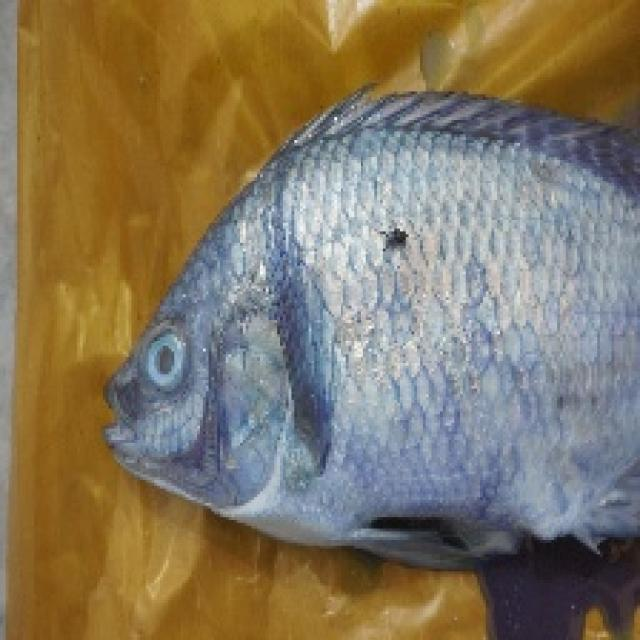Non-Fresh: (202, 176, 640, 542), (138, 316, 199, 399)
